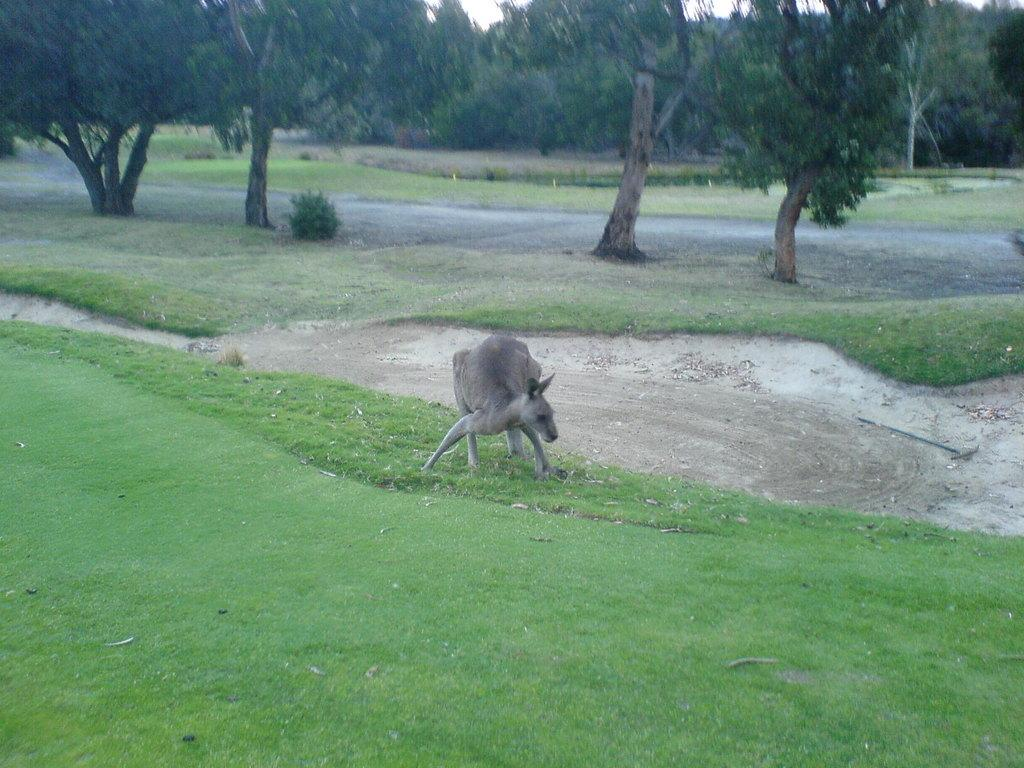kangaroo: (424, 333, 558, 480)
